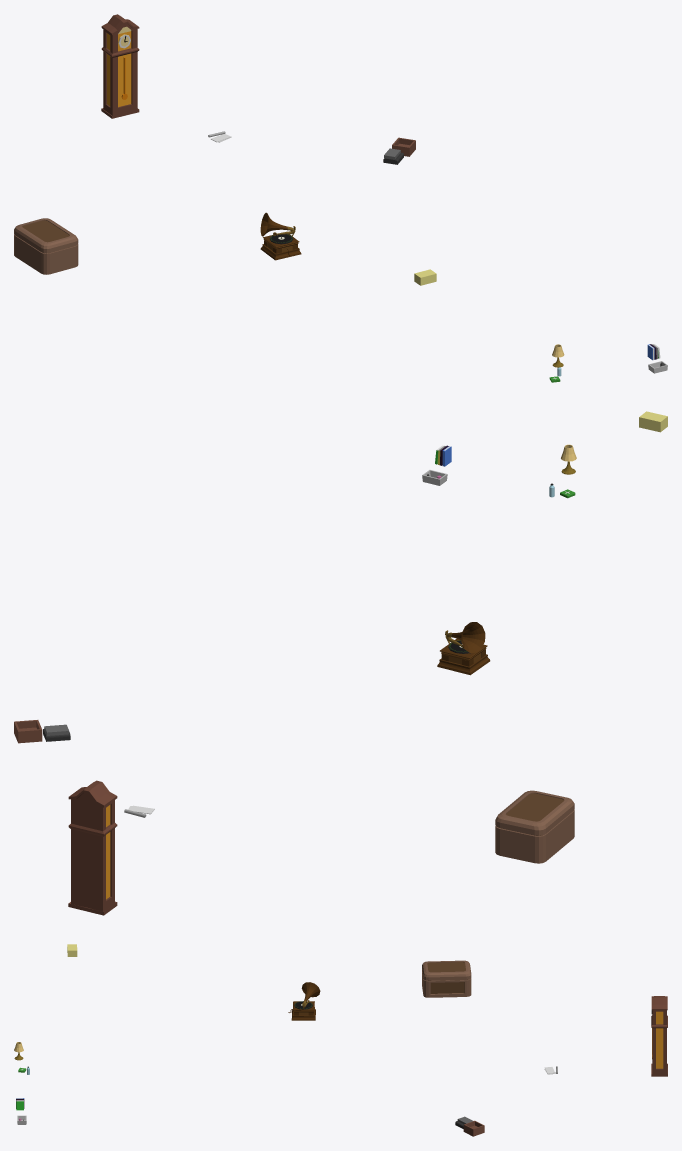
The model's file is ammendments.fbx.
3 renders of one model, top to bottom at view 1: azimuth 30°, elevation 25°; view 2: azimuth 150°, elevation 25°; view 3: azimuth 270°, elevation 25°, orthographic. The views are drawn at different scales.
Visible parts, largest first — view 1: Grandfather Clock.005, Cube.008, Plane.035; view 2: Grandfather Clock.005, Cube.008, Plane.035; view 3: Cube.008, Grandfather Clock.005, Plane.035.
Part boxes in pixels (x1,y1,x2,y2): Grandfather Clock.005: (101, 14, 139, 118); Cube.008: (14, 218, 78, 274); Plane.035: (260, 212, 301, 260); Grandfather Clock.005: (68, 780, 117, 915); Cube.008: (495, 790, 574, 863); Plane.035: (437, 622, 490, 675); Cube.008: (422, 960, 471, 997); Grandfather Clock.005: (651, 996, 667, 1076); Plane.035: (288, 982, 320, 1020).
Bounding box in the file's own units: 13744 × 2291 × 7837.
